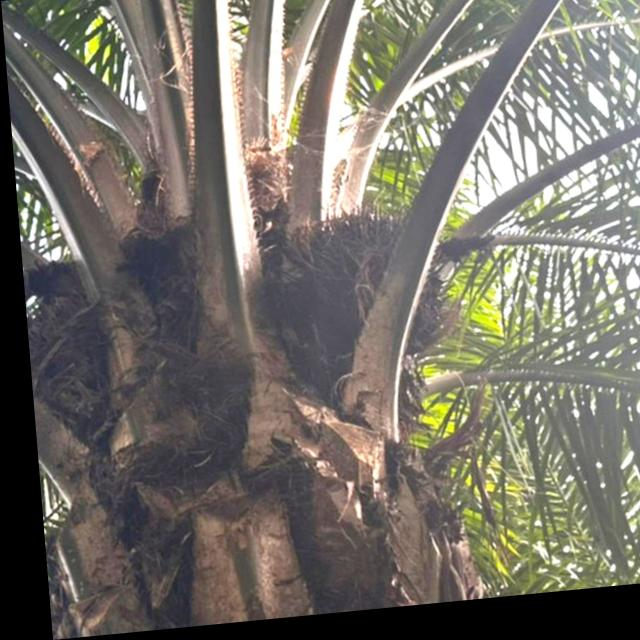almost: (288, 193, 445, 362)
